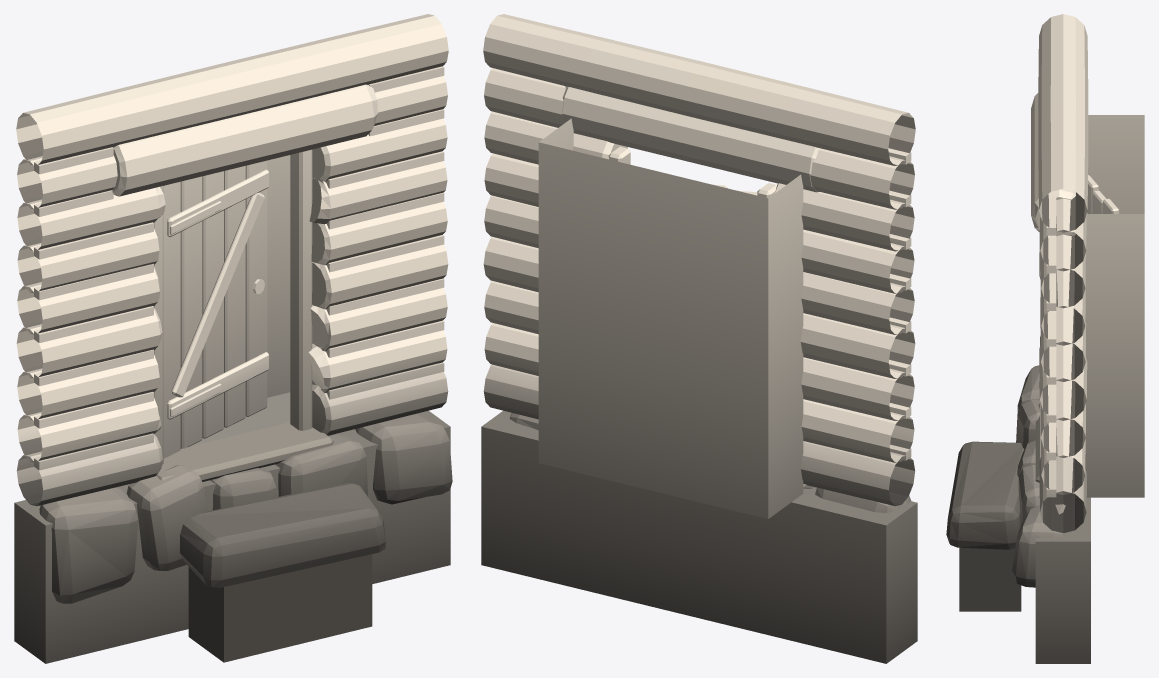
File: SM_VK_Wall_Log_B_Door.fbx
3 views of the same model, side by side, from view 1: azimuth 30°, elevation 25°; view 2: azimuth 150°, elevation 25°; view 3: azimuth 270°, elevation 25° (orthographic). The views are drawn at different scales.
Visible parts, largest first — view 1: SM_VK_Wall_Log_B_Door.001; view 2: SM_VK_Wall_Log_B_Door.001; view 3: SM_VK_Wall_Log_B_Door.001.
Boxes of the visible parts, x1,y1,x2,y2 form: SM_VK_Wall_Log_B_Door.001: [14, 14, 452, 663]; SM_VK_Wall_Log_B_Door.001: [481, 14, 917, 663]; SM_VK_Wall_Log_B_Door.001: [946, 14, 1144, 663].
Size of the model in its own units: 3 by 3.81 by 1.44.
